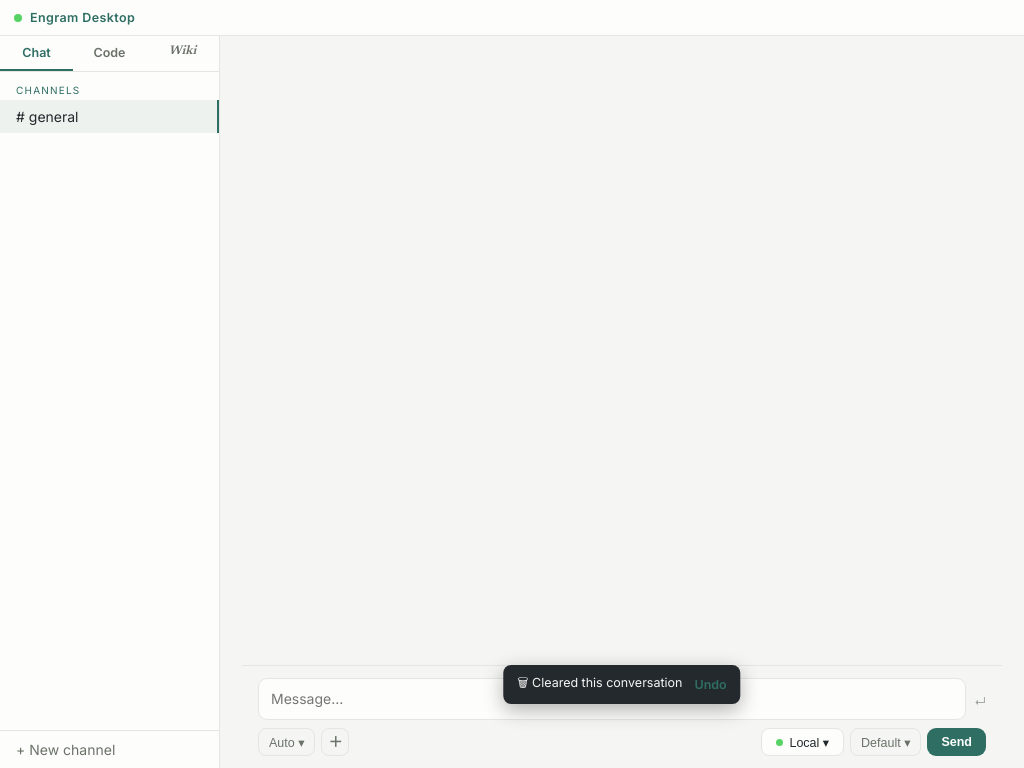
Scenario: 토스트 "실행취소" 클릭 → undoClear를 보내고 토스트를 끈다
The image size is (1024, 768).
Check: the text "# general" is shown, box [16, 108, 78, 125]
What coordinates should you click on to do the following:
click the text "Undo"
I would click on:
 (711, 684)
Its box is [694, 677, 727, 692].
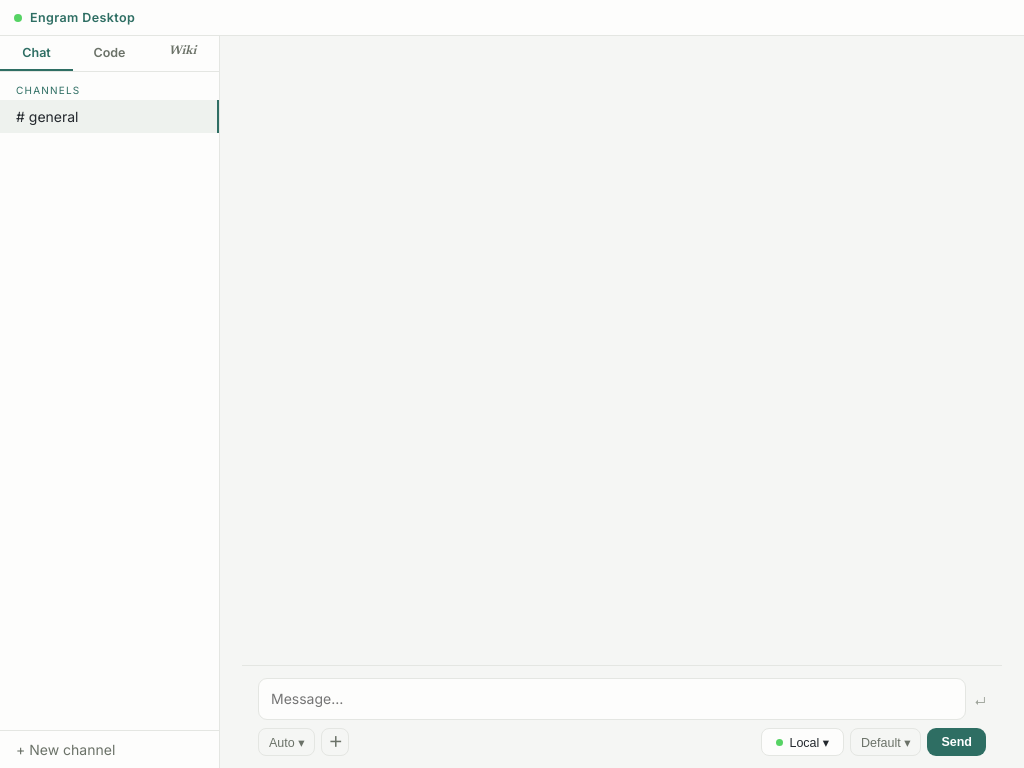
Check: the text "Undo" is gone
